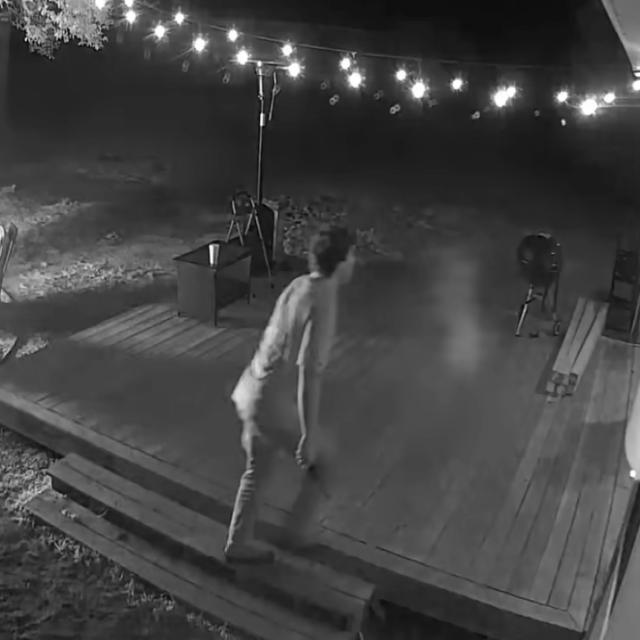Invader: (222, 223, 357, 565)
